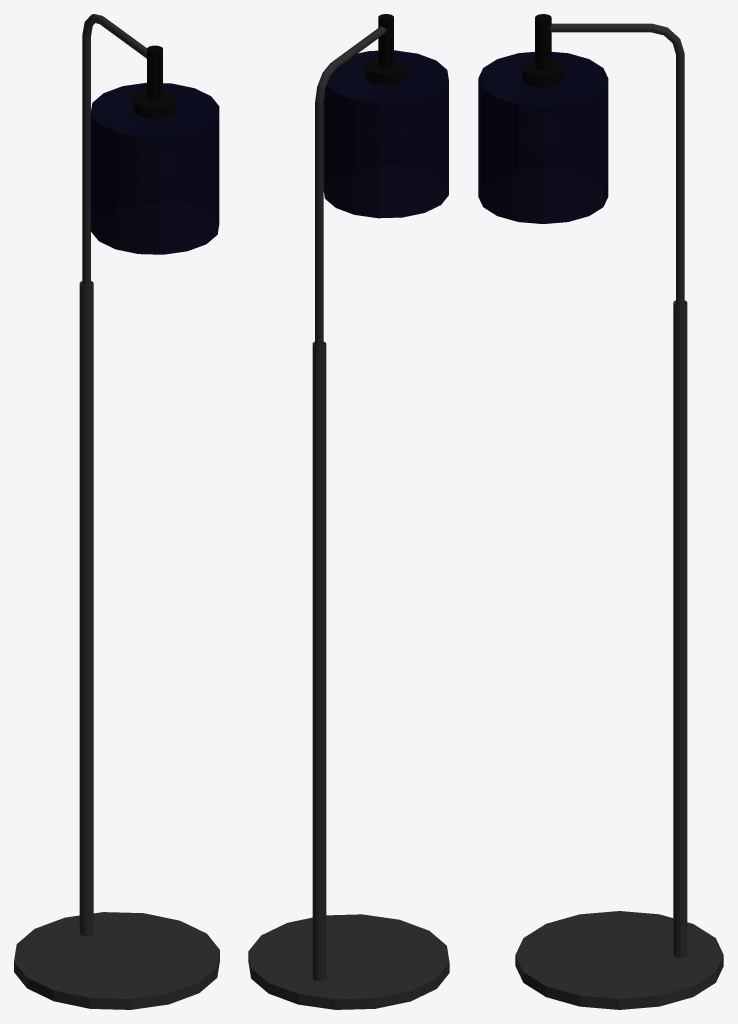
The model's file is Lamp_Tall_6.fbx.
The picture shows the model from 3 angles, left to right: view 1: azimuth 30°, elevation 25°; view 2: azimuth 150°, elevation 25°; view 3: azimuth 270°, elevation 25°; orthographic projection. The views are drawn at different scales.
Parts seen in each view (by area): view 1: Lamp6; view 2: Lamp6; view 3: Lamp6.
Boxes of the visible parts, box(x1,y1,x2,y2) form: Lamp6: box(14, 14, 219, 1009); Lamp6: box(248, 14, 449, 1009); Lamp6: box(478, 14, 723, 1009).
Bounding box in the file's own units: 117 × 589 × 138.
